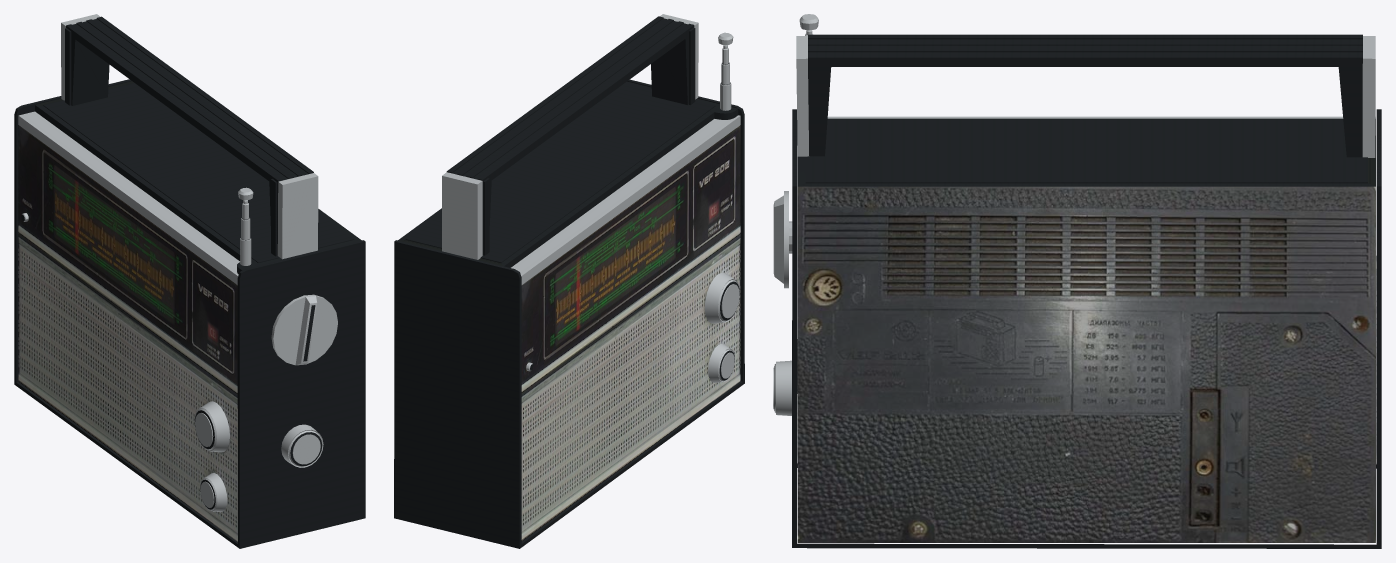
Rendered from radio.FBX.
The picture shows the model from 3 angles, left to right: view 1: azimuth 30°, elevation 25°; view 2: azimuth 150°, elevation 25°; view 3: azimuth 270°, elevation 25°; orthographic projection. The views are drawn at different scales.
Parts seen in each view (by area): view 1: radio; view 2: radio; view 3: radio.
Part boxes in pixels (x1,y1,x2,y2): radio: [14, 14, 365, 548]; radio: [394, 14, 744, 548]; radio: [773, 14, 1381, 548].
Bounding box in the file's own units: 23.1 × 56.99 × 67.98.
